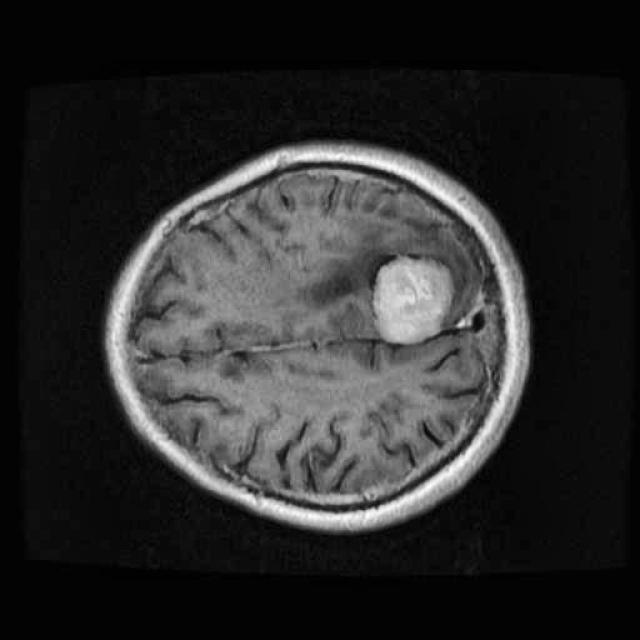Tumor: (359, 243, 480, 358)
